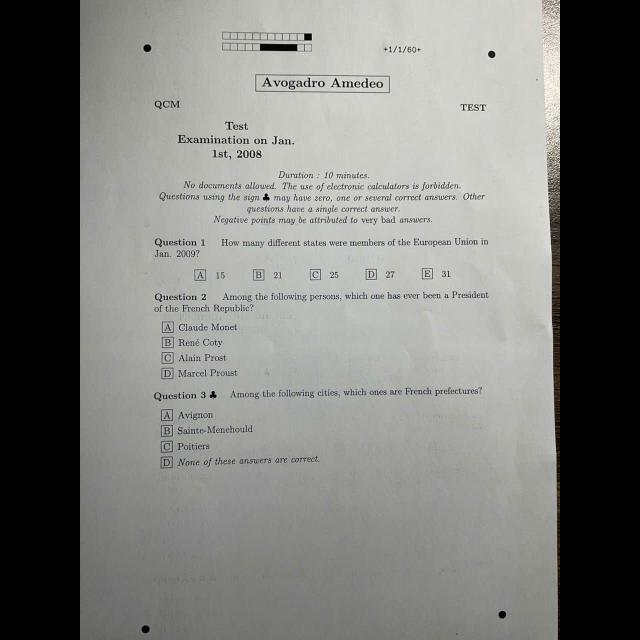Markers: (143, 44, 151, 52), (488, 50, 496, 58), (498, 611, 506, 619), (142, 626, 150, 634)
